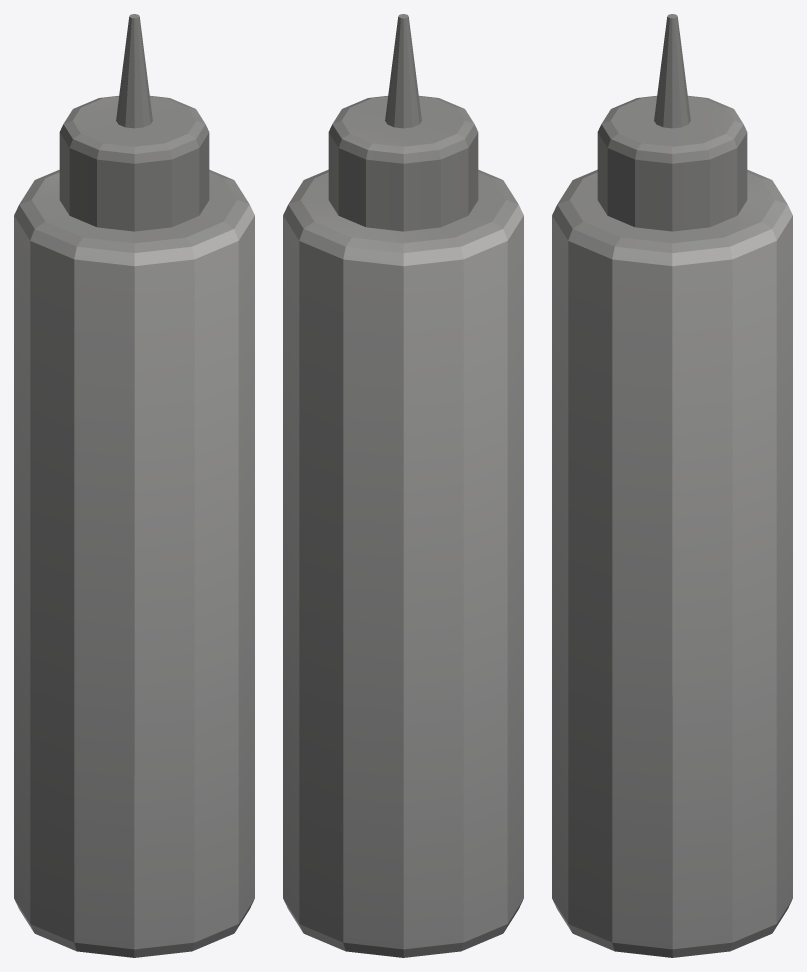
File: Food_07.fbx
3 renders of one model, left to right at view 1: azimuth 30°, elevation 25°; view 2: azimuth 150°, elevation 25°; view 3: azimuth 270°, elevation 25°, orthographic.
Visible parts, largest first — view 1: Food_07; view 2: Food_07; view 3: Food_07.
Part boxes in pixels (<box>): Food_07: <box>14,14,254,957</box>; Food_07: <box>283,14,523,957</box>; Food_07: <box>552,14,792,957</box>.
Size of the model in its own units: 0.0872 by 0.3585 by 0.0872.
